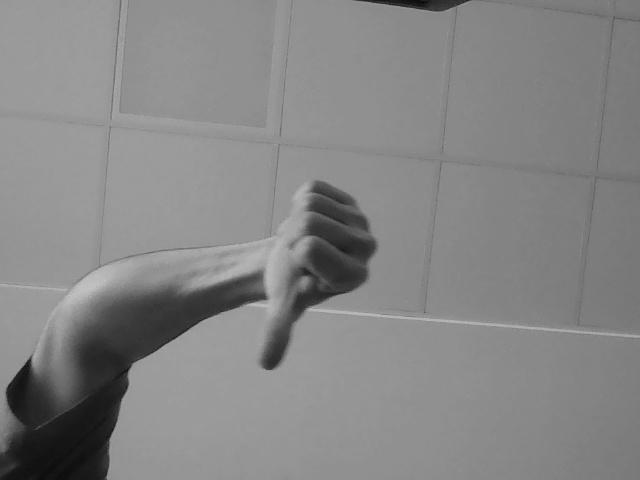bad: (244, 193, 396, 399)
